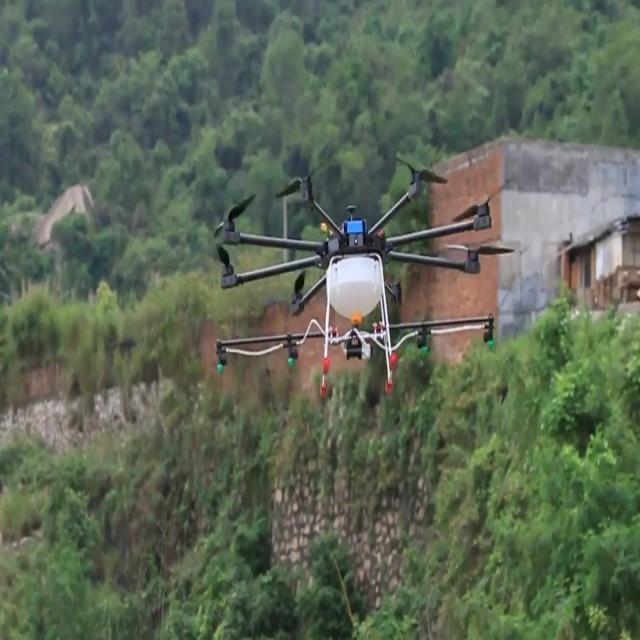UAV: (214, 160, 514, 396)
